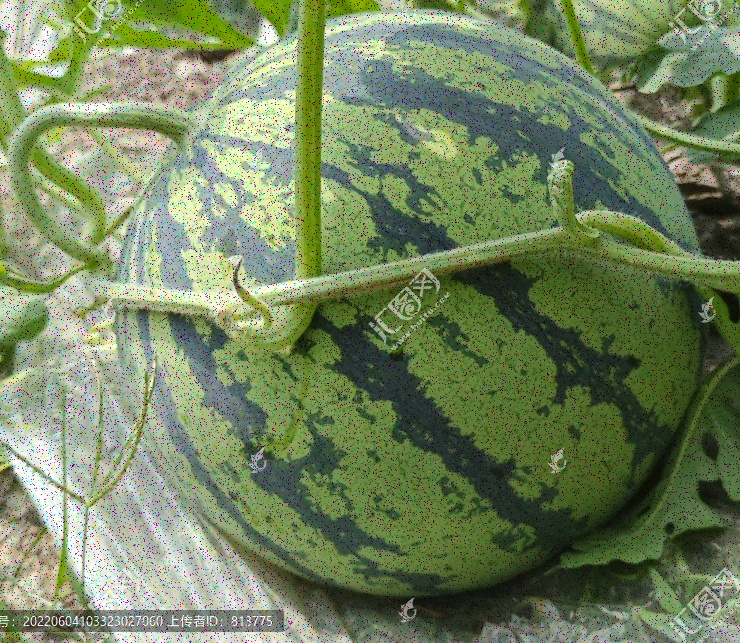watermelon: (124, 9, 708, 604)
